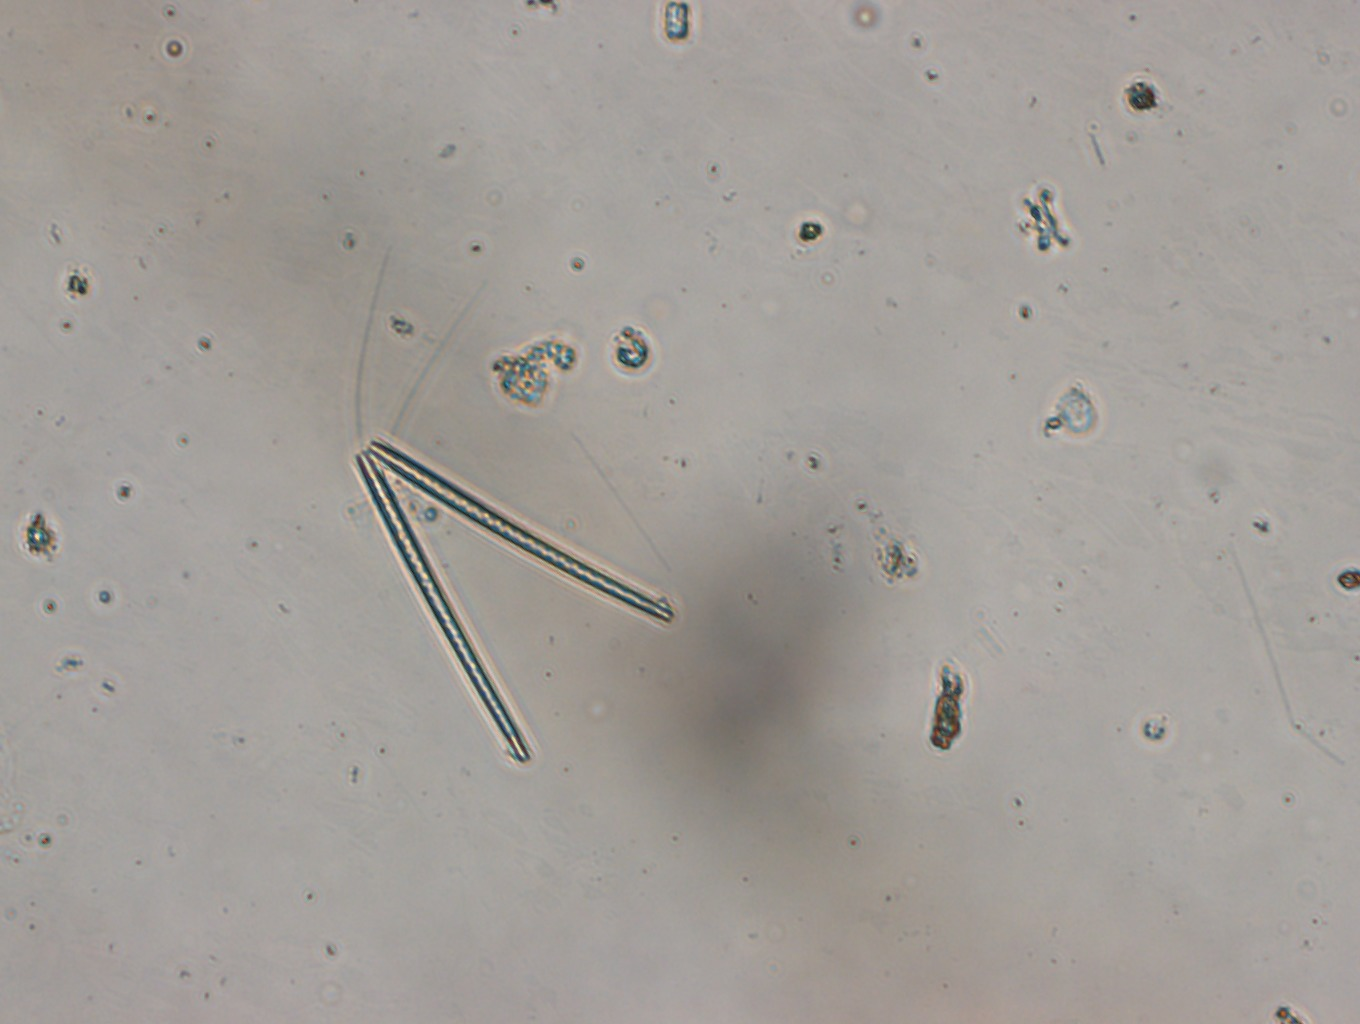thalassionema nitzschioides: (350, 429, 679, 773)
